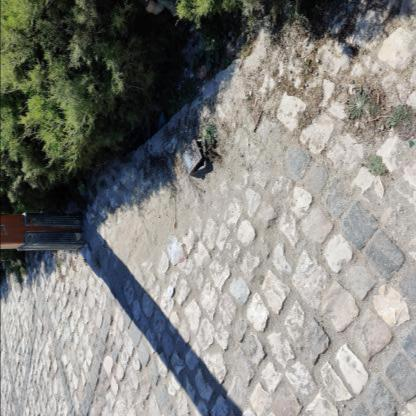Broken glass: (408, 140, 415, 149)
Cigarette: (254, 99, 258, 107), (173, 219, 176, 228)
Cup: (166, 234, 186, 266)
Unlabeled litter: (131, 340, 142, 364), (167, 285, 174, 297)
